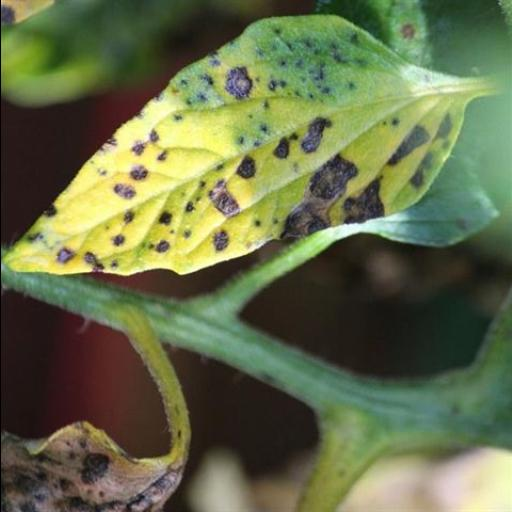Septoria: (2, 8, 464, 284)
